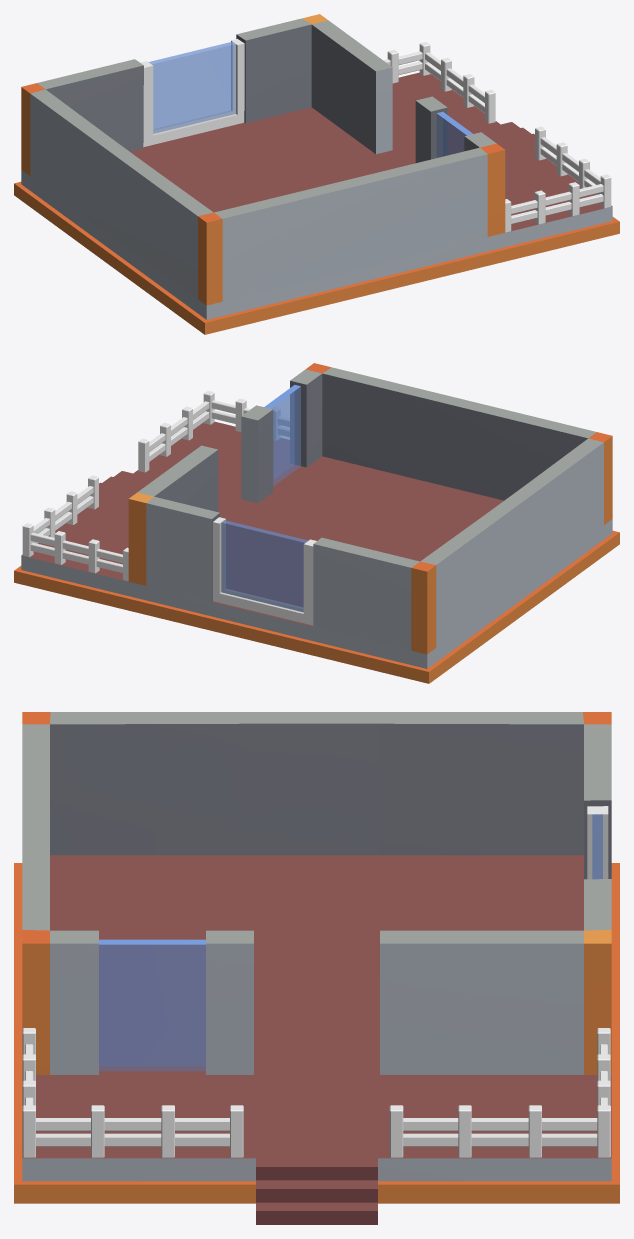
Rendered from house1.fbx.
3 views of the same model, one above another, from view 1: azimuth 30°, elevation 25°; view 2: azimuth 150°, elevation 25°; view 3: azimuth 270°, elevation 25° (orthographic). The views are drawn at different scales.
Parts seen in each view (by area): view 1: house; view 2: house; view 3: house.
Part boxes in pixels (x1=…): house: x1=14, y1=14, x2=619, y2=334; house: x1=14, y1=363, x2=619, y2=683; house: x1=14, y1=712, x2=619, y2=1224.
Bounding box in the file's own units: 55.9 × 13.15 × 41.66.
2 materials, 2 textured.
